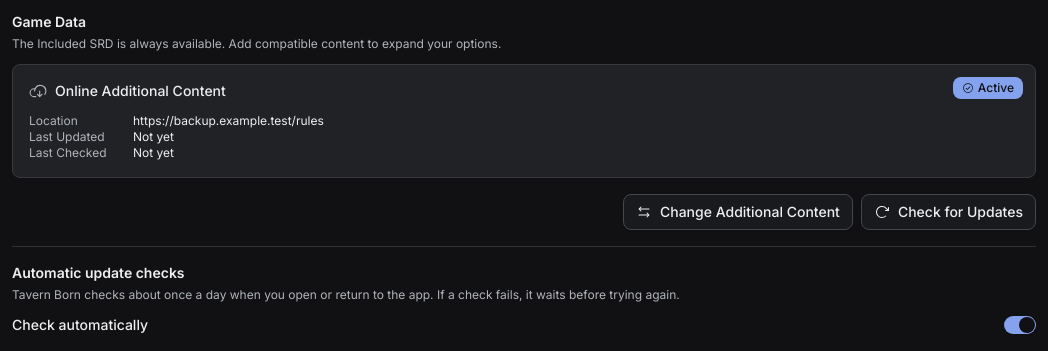
data source switching › prefills the saved remote source when changing additional content
Click the button "Change Additional Content" at {"x": 738, "y": 212}, box x1=623 y1=194 x2=853 y2=230
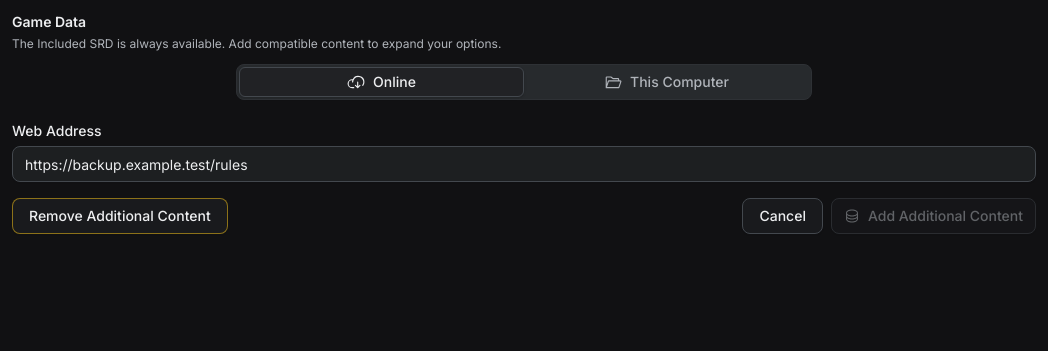
Expected: the field labelled "Web Address" holds "https://backup.example.test/rules", x1=12 y1=146 x2=1036 y2=182
Expected: the button "Add Additional Content" is disabled, x1=831 y1=198 x2=1036 y2=234
Click the tab "This Computer" at {"x": 666, "y": 82}, box x1=524 y1=67 x2=809 y2=97
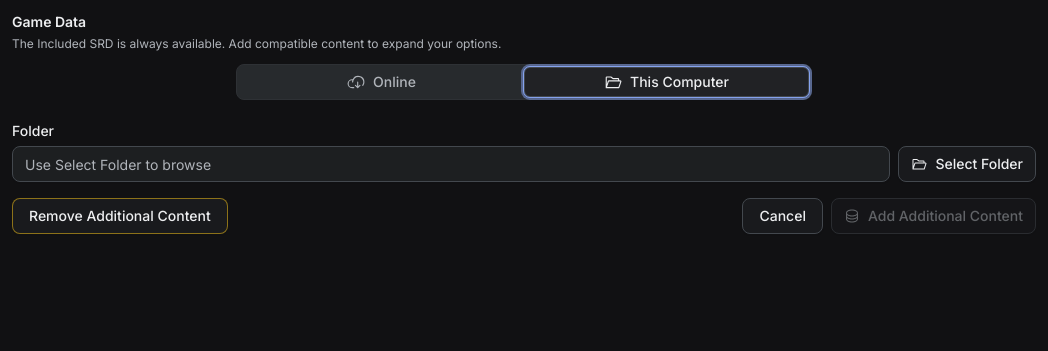
Expected: the field labelled "Folder" is empty, x1=12 y1=146 x2=890 y2=182
Click the tab "Online" at {"x": 382, "y": 82}, box x1=239 y1=67 x2=524 y2=97
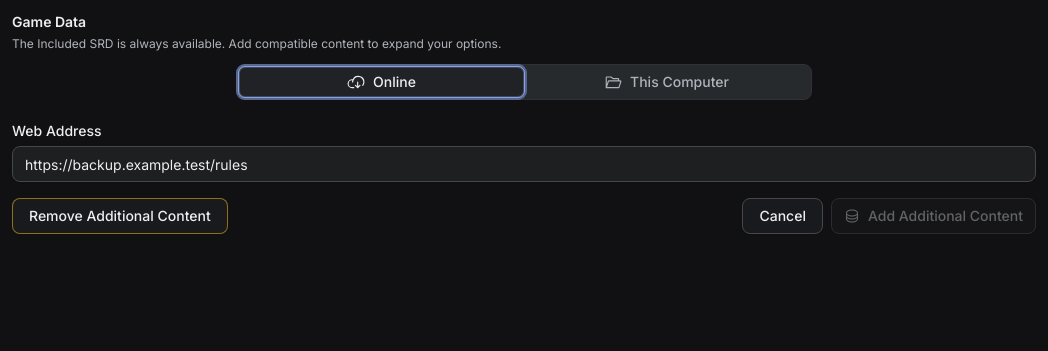
Expected: the field labelled "Web Address" holds "https://backup.example.test/rules", x1=12 y1=146 x2=1036 y2=182
Click the button "Cancel" at {"x": 783, "y": 216}, box x1=742 y1=198 x2=823 y2=234
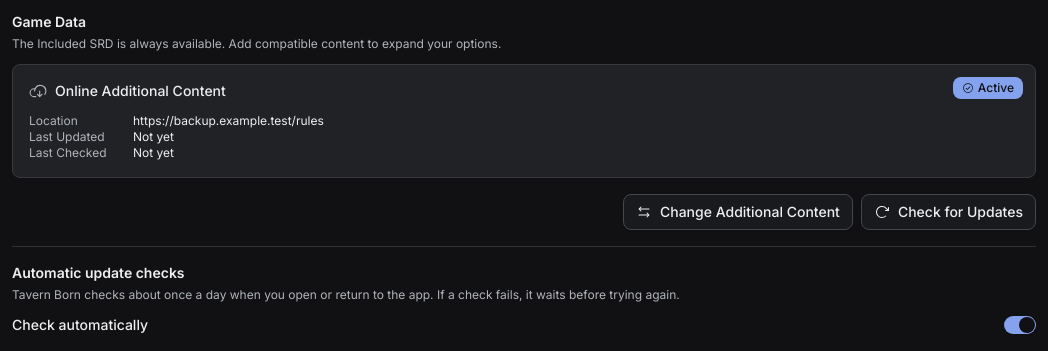
Click the button "Change Additional Content" at {"x": 738, "y": 212}, box x1=623 y1=194 x2=853 y2=230
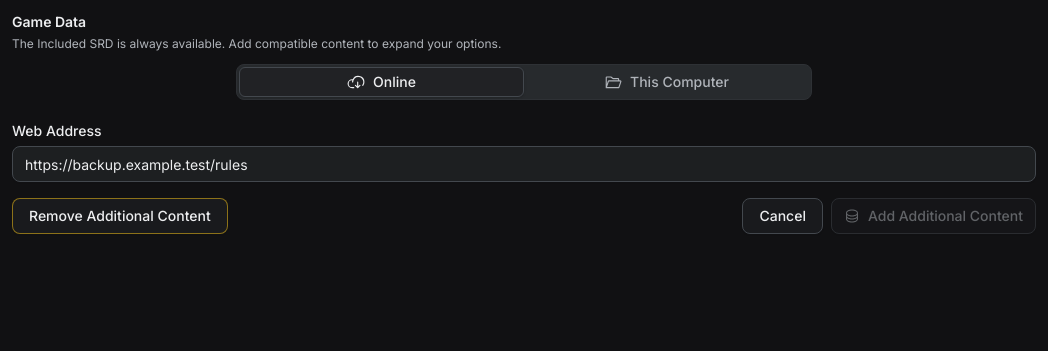
Expected: the field labelled "Web Address" holds "https://backup.example.test/rules", x1=12 y1=146 x2=1036 y2=182
